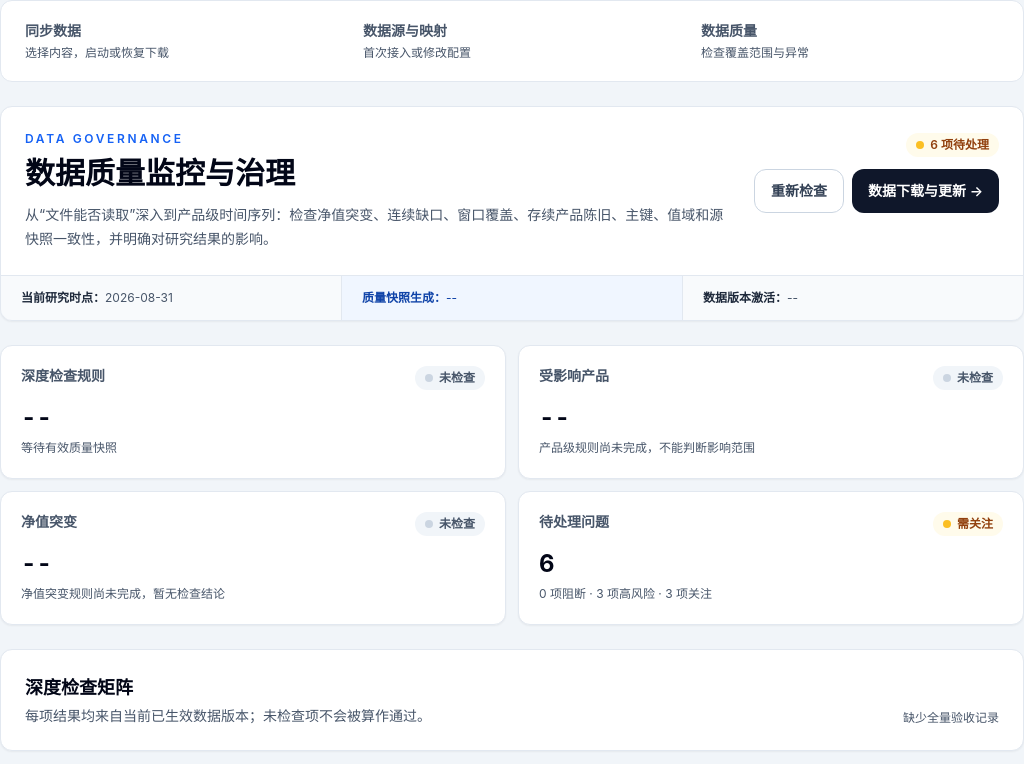
Scenario: DataQuality › 质量接口失败显示未检查，重新检查成功后真实零值可以通过
This screenshot has width=1024, height=764.
expect the text "--" below "受影响产品" is shown: met, box [539,403,570,432]
expect the text "未检查" is shown: met, box [933,366,1003,390]
Step 1. Click the button "重新检查" → (799, 191), box [754,169,844,213]
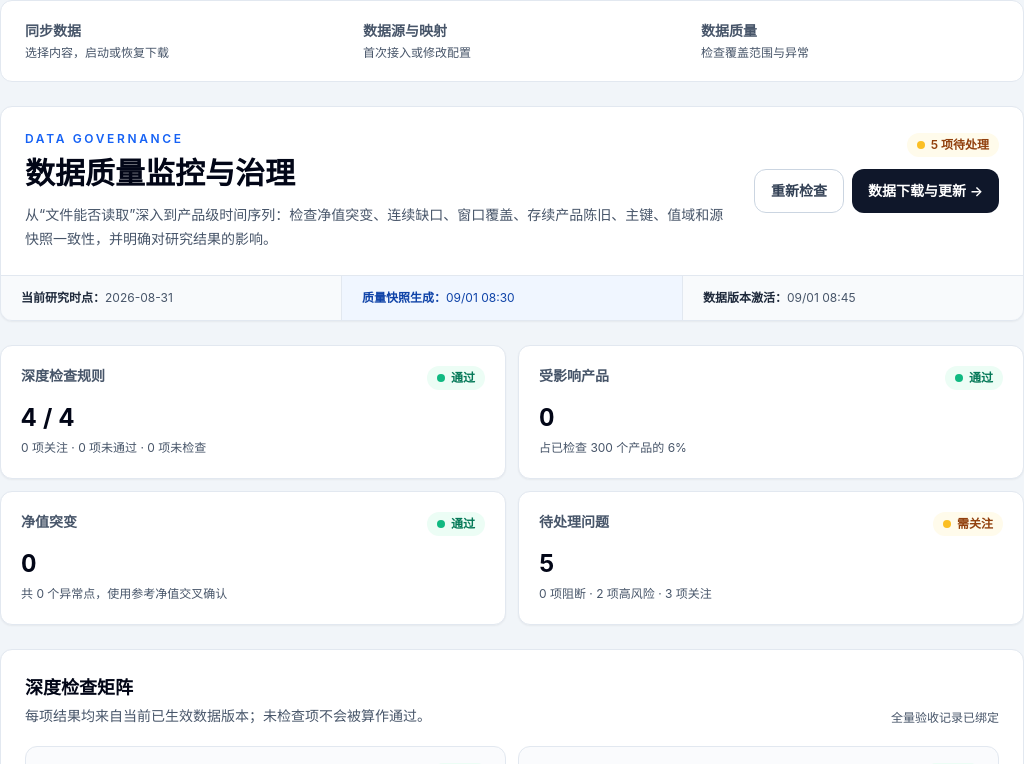
expect the text "0" below "受影响产品" is shown: met, box [539,403,554,432]
expect the text "通过" in the row of "受影响产品" is shown: met, box [969,370,993,385]
expect the text "通过" next to "待处理问题" is shown: met, box [451,516,475,531]
